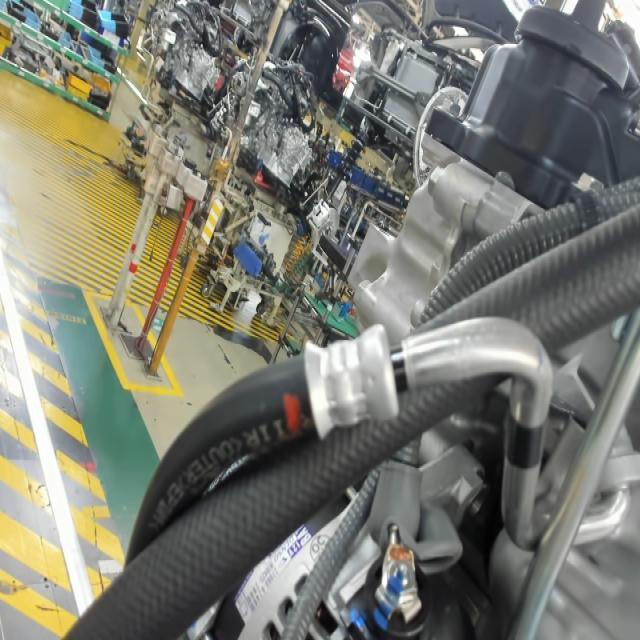Alternator-BA1: (287, 524, 313, 559)
Hose Discharge-HT: (503, 400, 546, 472)
